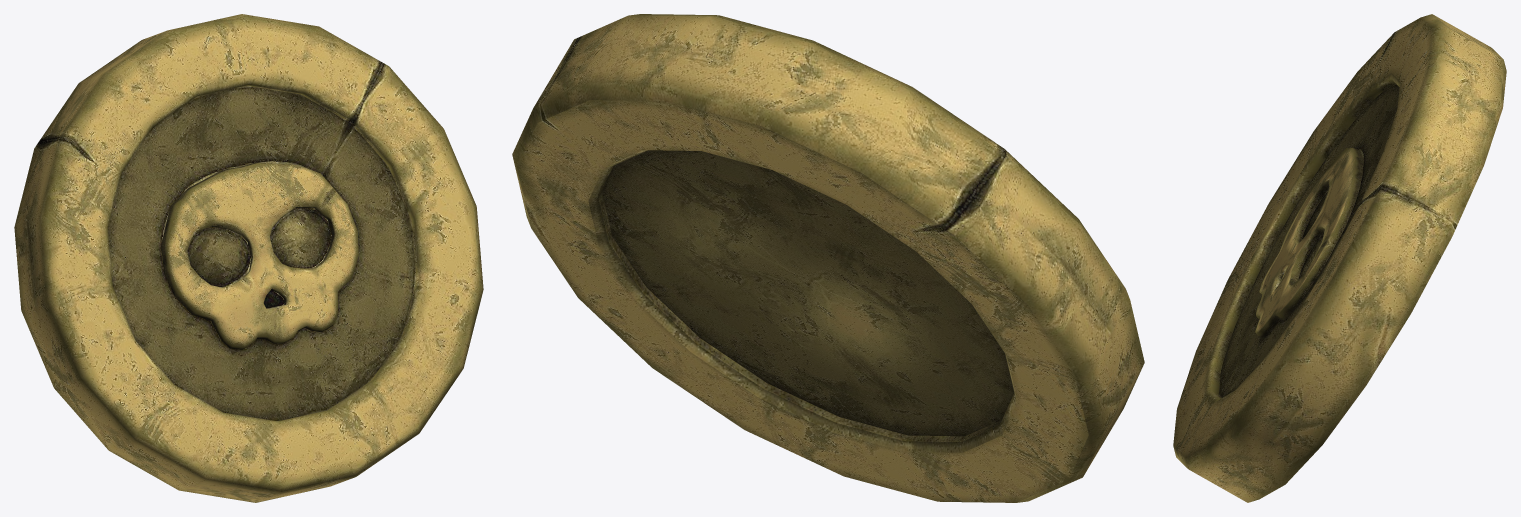
Rendered from coin_point.glb.
3 renders of one model, left to right at view 1: azimuth 30°, elevation 25°; view 2: azimuth 150°, elevation 25°; view 3: azimuth 270°, elevation 25°, orthographic. The views are drawn at different scales.
Parts seen in each view (by area): view 1: Object_2; view 2: Object_2; view 3: Object_2.
Part boxes in pixels (bbox=[...]): Object_2: bbox=[14, 14, 483, 502]; Object_2: bbox=[512, 14, 1144, 502]; Object_2: bbox=[1173, 14, 1506, 502].
Size of the model in its own units: 12.05 by 10.95 by 7.69.
Materials: 1 (1 with a texture image).
